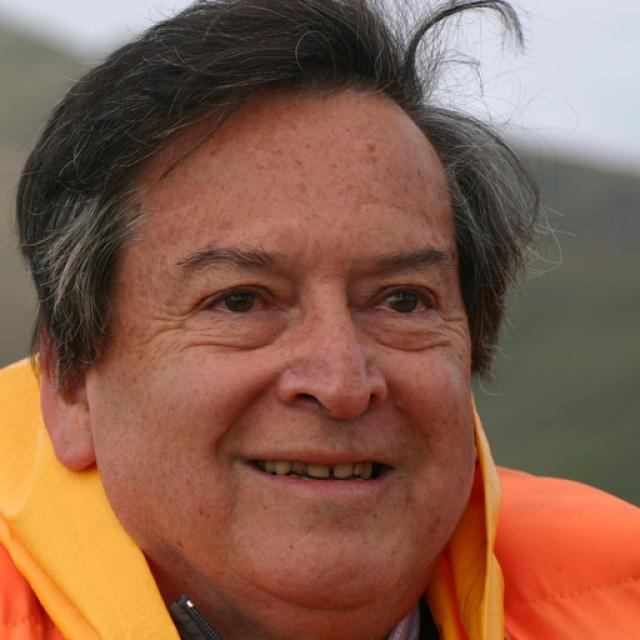Pigmentation: (102, 211, 240, 354), (282, 133, 372, 224), (356, 103, 435, 202)
